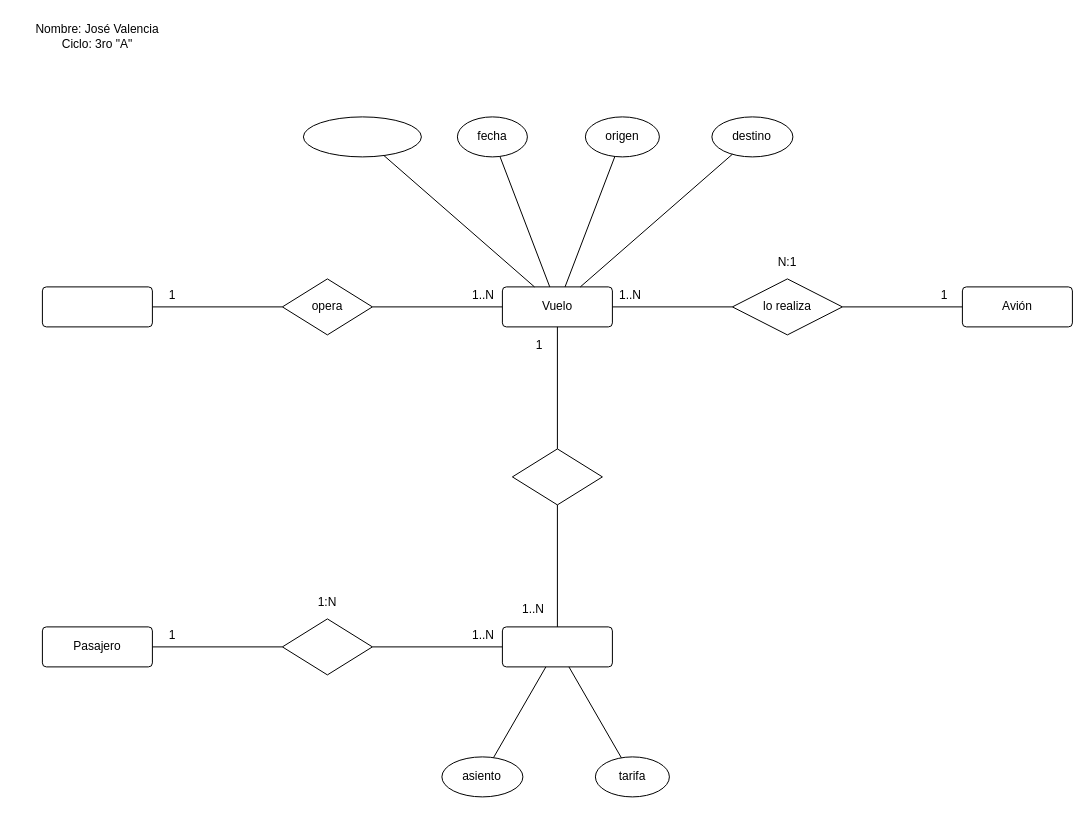
Image size: 1090x815. Some labels were removed from this diagram. Each missing label, with the centre of its shape:
Aerolínea: [96,306]
numero_vuelo: [361,136]
realiza: [326,646]
Reserva: [556,646]
tiene: [556,476]
